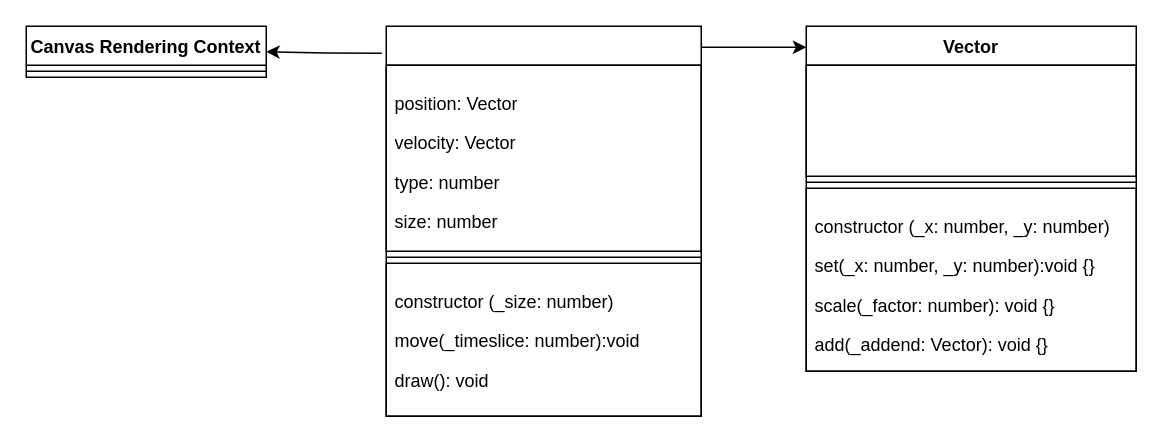
Image size: 1163x447. Some labels were removed from this diagram. Each missing label, with the box of its shape:
Asteroid: (385, 25, 701, 416)
x: number y: number: (805, 64, 1136, 176)
